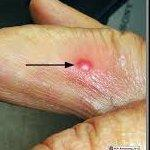Ants: (74, 56, 92, 72)
